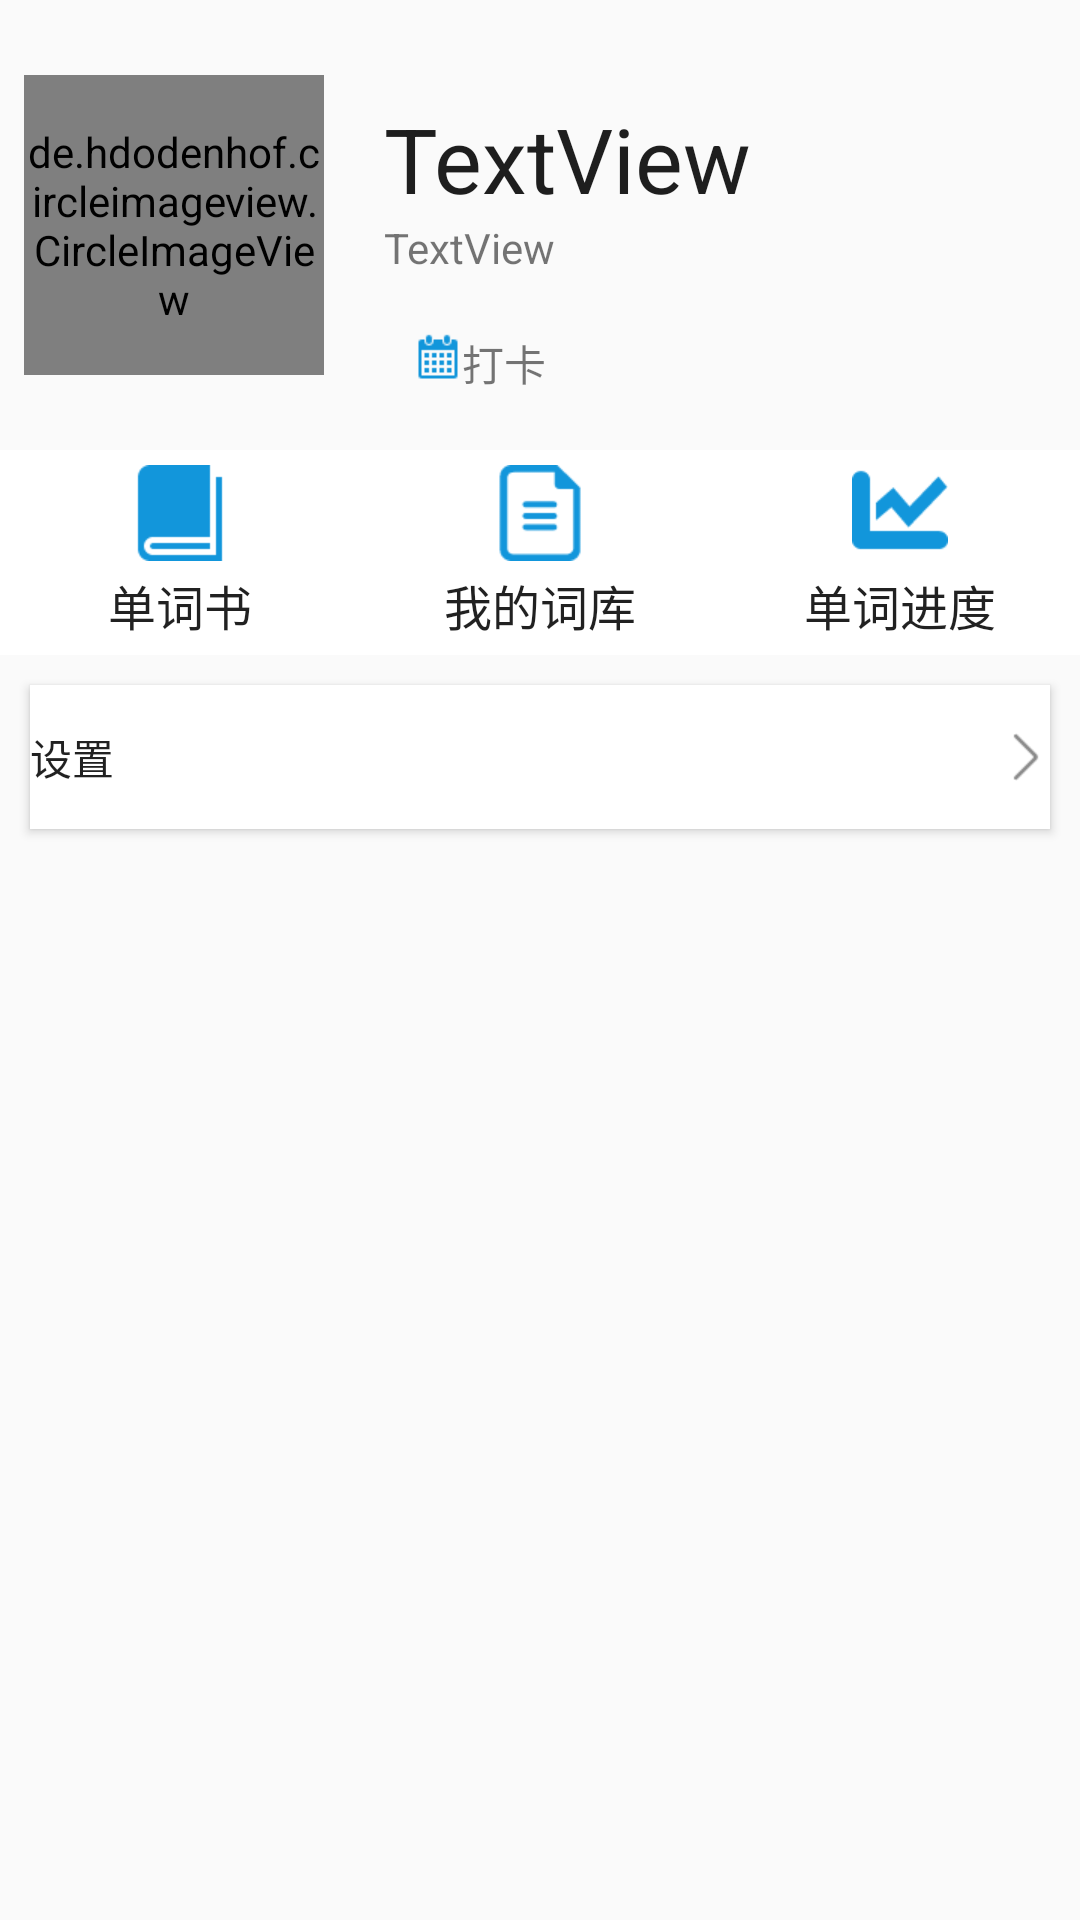

Locate icon controls on the screen. Image size 1080px×1920px, boxes as {"left": x1, "top": y1, "right": x2, "bottom": y2}.
calendar: {"left": 418, "top": 334, "right": 458, "bottom": 379}
